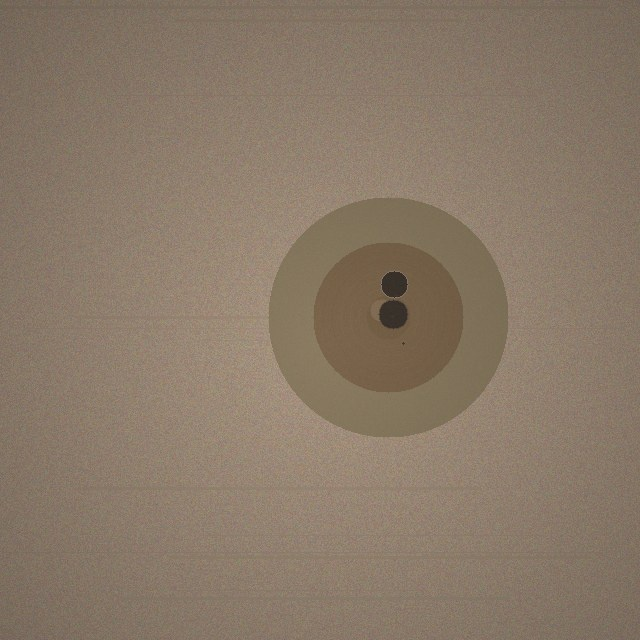shrinkage: (268, 197, 508, 437)
